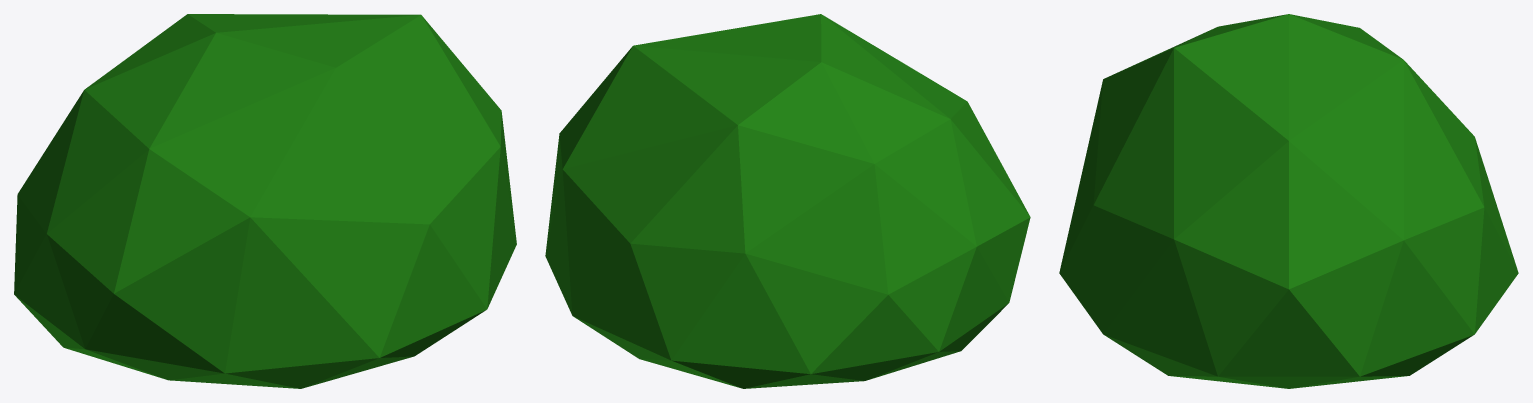
The model's file is Bush_animated.FBX.
3 views of the same model, side by side, from view 1: azimuth 30°, elevation 25°; view 2: azimuth 150°, elevation 25°; view 3: azimuth 270°, elevation 25° (orthographic). The views are drawn at different scales.
Visible parts, largest first — view 1: Icosphere; view 2: Icosphere; view 3: Icosphere.
Part boxes in pixels (bbox=[...]): Icosphere: bbox=[14, 14, 516, 388]; Icosphere: bbox=[545, 14, 1030, 388]; Icosphere: bbox=[1059, 14, 1518, 388].
Size of the model in its own units: 30.76 by 17.94 by 28.01.
